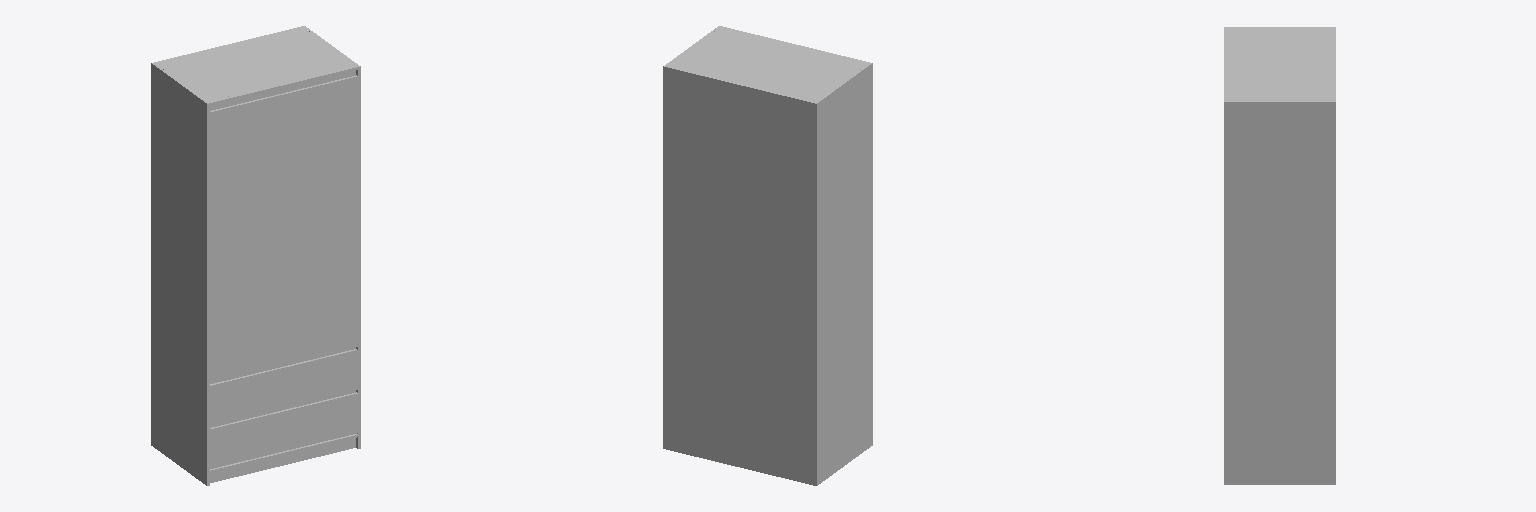
The model's file is BILLUND.obj.
3 views of the same model, side by side, from view 1: azimuth 30°, elevation 25°; view 2: azimuth 150°, elevation 25°; view 3: azimuth 270°, elevation 25° (orthographic).
Parts seen in each view (by area): view 1: Куб.006, Куб.002; view 2: Куб.002; view 3: Куб.002.
Boxes of the visible parts, box(x1,y1,x2,y2) form: Куб.006: box(210, 75, 357, 468); Куб.002: box(151, 26, 360, 485); Куб.002: box(663, 26, 872, 485); Куб.002: box(1224, 27, 1335, 484).
Bounding box in the file's own units: 1.62 × 3.86 × 1.02.